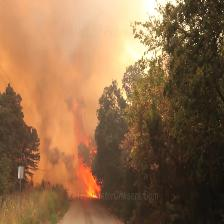fire: (57, 92, 132, 200)
smoke: (0, 0, 151, 105)
